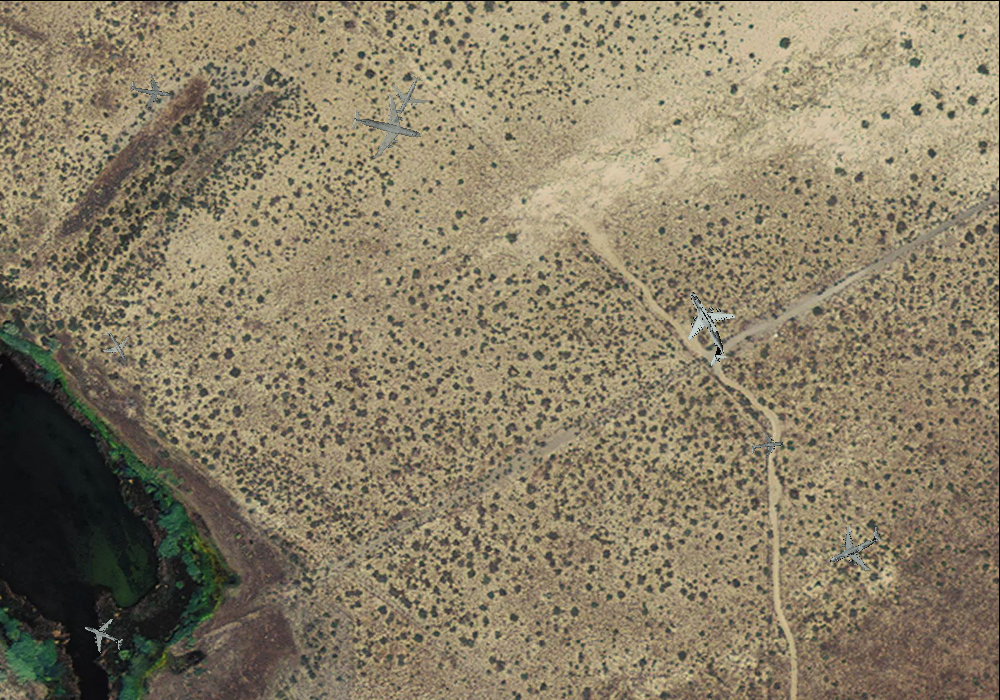plane: (658, 277, 754, 376), (343, 86, 429, 167), (818, 511, 893, 584), (382, 67, 435, 121), (76, 610, 129, 662), (127, 67, 173, 112), (93, 323, 138, 368), (749, 429, 785, 463)
